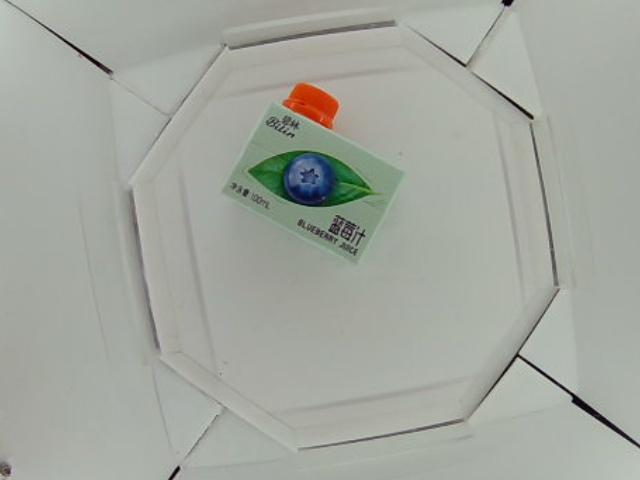Bottle: (224, 82, 406, 264)
